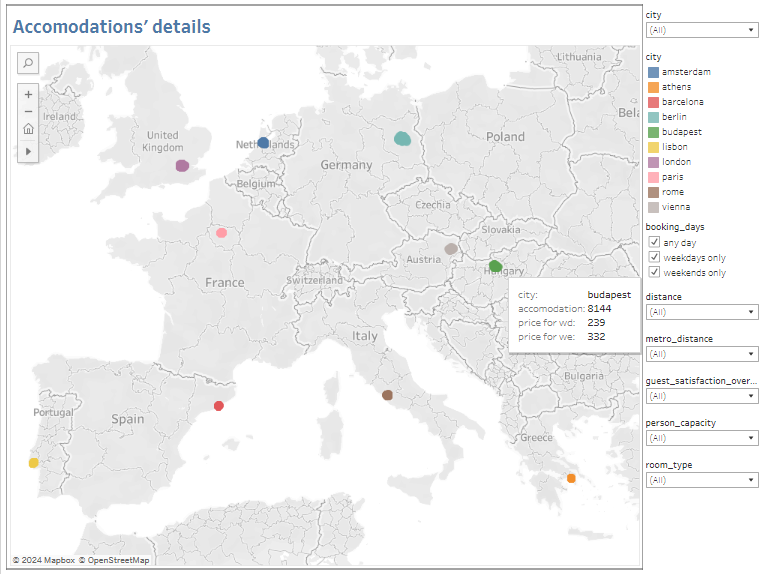

What the dashboard file says about the page in this screenshot:
{"tool":"tableau","page":{"name":"Dashboard 8","canvas":[1024,768],"ordinal":0},"visuals":[{"type":"worksheet","title":"Accomodations' details","mark":"Automatic","rows":["lat"],"cols":["lng"],"box":[8,8,848,752]},{"type":"filter","title":"Accomodations' details","param":"[federated.1g3i3es0u0xrs51gmyu2l13s10mf].[none:city:nk]","box":[856,8,160,56]},{"type":"legend","title":"Accomodations' details","param":"[federated.1g3i3es0u0xrs51gmyu2l13s10mf].[none:city:nk]","box":[856,64,160,227]},{"type":"filter","title":"Accomodations' details","param":"[federated.1g3i3es0u0xrs51gmyu2l13s10mf].[none:booking_days:nk]","box":[856,291,160,93]},{"type":"filter","title":"Accomodations' details","param":"[federated.1g3i3es0u0xrs51gmyu2l13s10mf].[none:distance:ok]","box":[856,384,160,56]},{"type":"filter","title":"Accomodations' details","param":"[federated.1g3i3es0u0xrs51gmyu2l13s10mf].[none:metro_distance:ok]","box":[856,440,160,56]},{"type":"filter","title":"Accomodations' details","param":"[federated.1g3i3es0u0xrs51gmyu2l13s10mf].[none:guest_satisfaction_overall:ok]","box":[856,496,160,56]},{"type":"filter","title":"Accomodations' details","param":"[federated.1g3i3es0u0xrs51gmyu2l13s10mf].[none:person_capacity:ok]","box":[856,552,160,56]},{"type":"filter","title":"Accomodations' details","param":"[federated.1g3i3es0u0xrs51gmyu2l13s10mf].[none:room_type:nk]","box":[856,608,160,56]}]}

Visuals, with their boxes in screenshot pixels (x1, y1, x2, y2), scaled from the page's 1024x768 canvas onto the 769x574 screenshot:
"Accomodations' details" worksheet: box=[6, 6, 643, 568]
"Accomodations' details" filter: box=[643, 6, 763, 48]
"Accomodations' details" legend: box=[643, 48, 763, 217]
"Accomodations' details" filter: box=[643, 217, 763, 287]
"Accomodations' details" filter: box=[643, 287, 763, 329]
"Accomodations' details" filter: box=[643, 329, 763, 371]
"Accomodations' details" filter: box=[643, 371, 763, 413]
"Accomodations' details" filter: box=[643, 413, 763, 454]
"Accomodations' details" filter: box=[643, 454, 763, 496]
